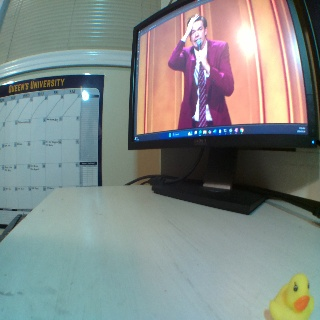duck_regular: (268, 271, 314, 318)
